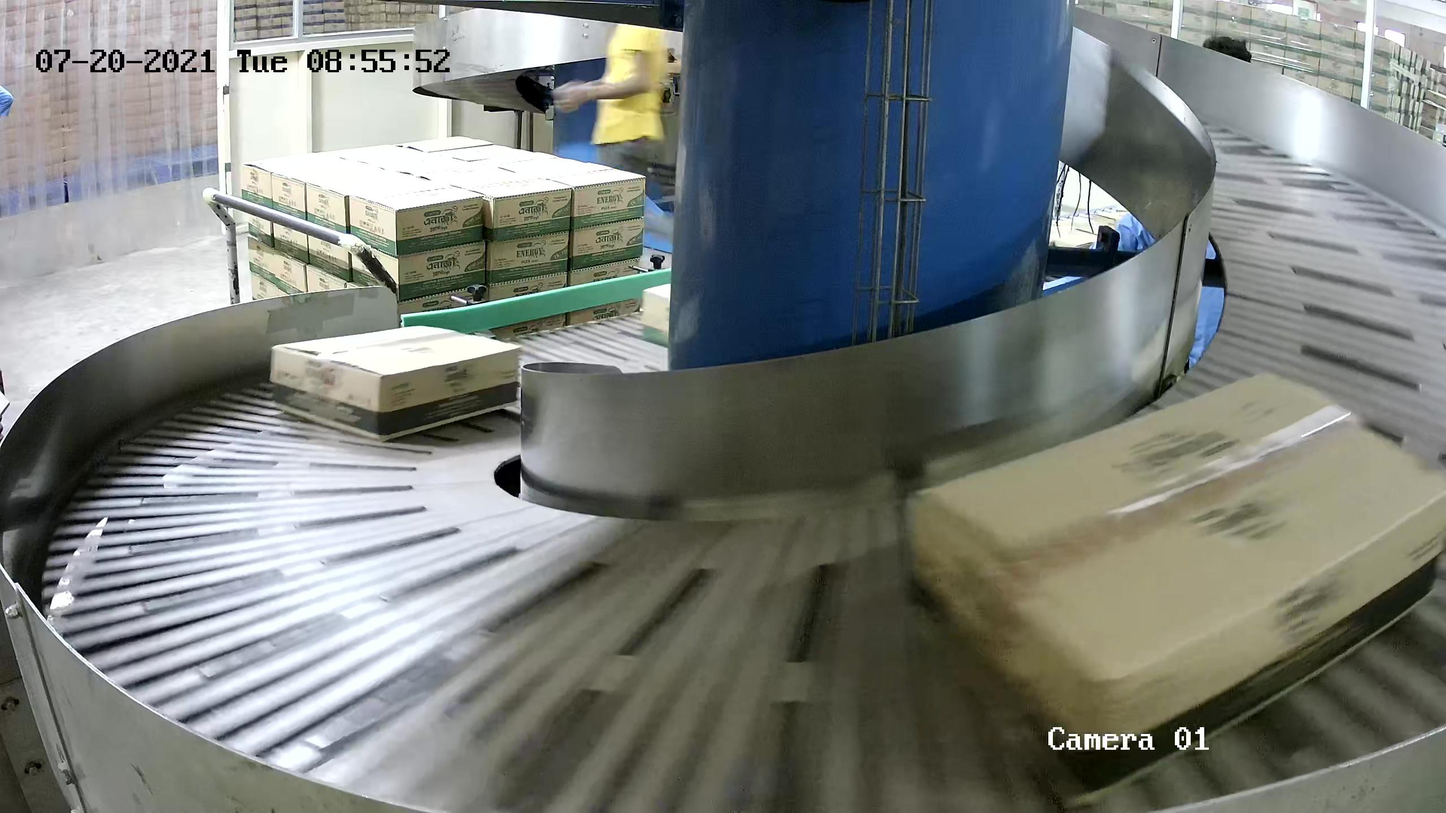Box: (900, 366, 1446, 813), (268, 325, 522, 442), (640, 282, 670, 347)
